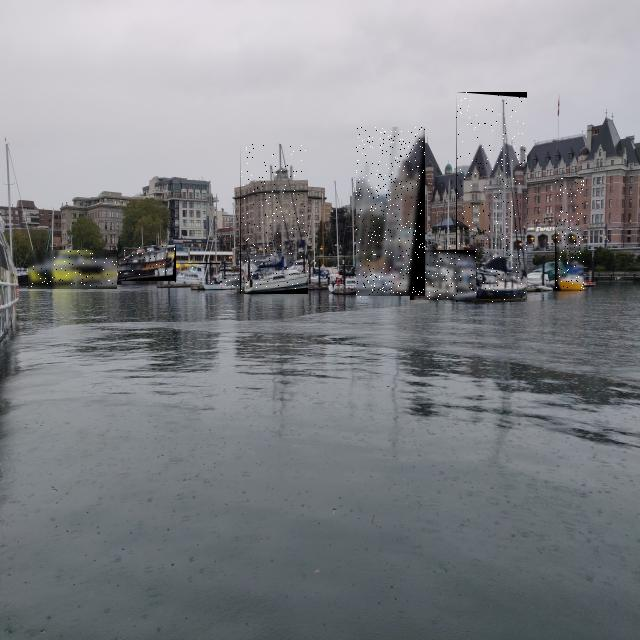boat: (456, 92, 527, 302), (356, 128, 425, 298), (240, 144, 308, 294), (28, 250, 117, 289), (556, 177, 586, 291), (410, 250, 476, 300), (118, 246, 176, 284), (160, 263, 220, 285)
skiff: (449, 284, 477, 296), (222, 276, 240, 286)
